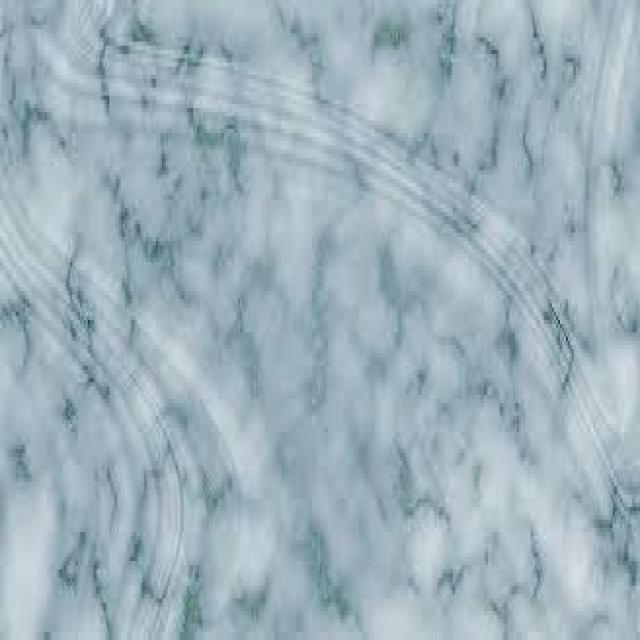Metamorphic: (2, 4, 636, 636)
